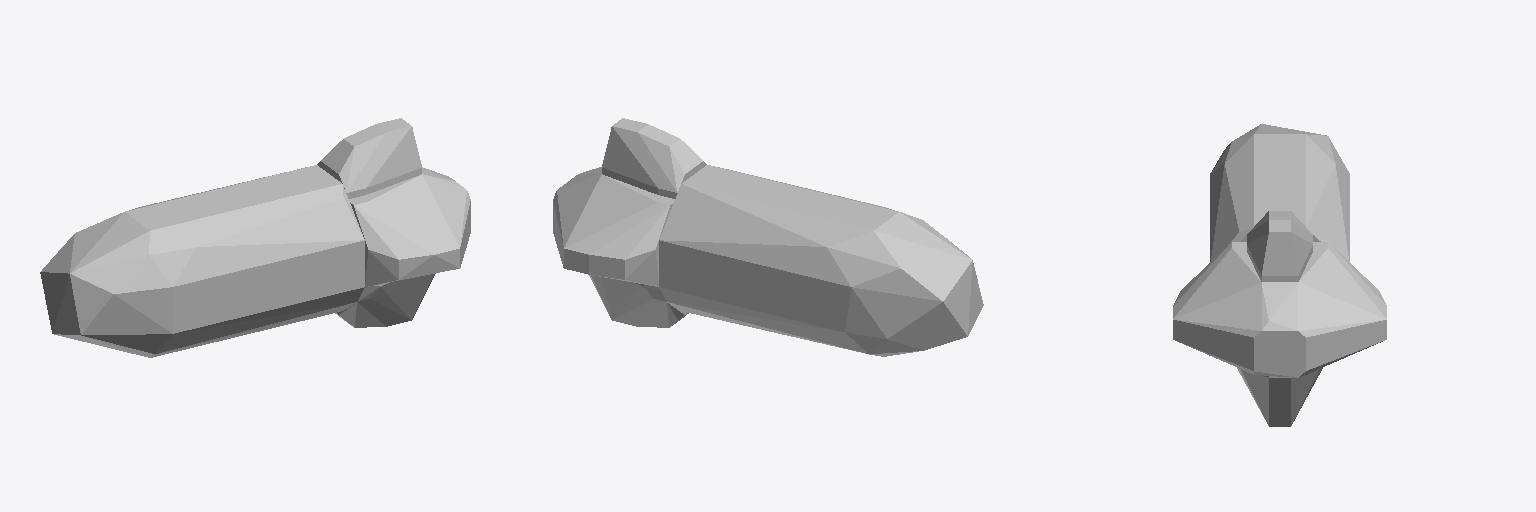
File: Missile_Convex_Hull.obj
The picture shows the model from 3 angles: view 1: azimuth 30°, elevation 25°; view 2: azimuth 150°, elevation 25°; view 3: azimuth 270°, elevation 25°; orthographic projection.
Parts seen in each view (by area): view 1: Rocket25_Cube.039_hull_1, Rocket25_Cube.039_hull_4, Rocket25_Cube.039_hull_3, Rocket25_Cube.039_hull_2; view 2: Rocket25_Cube.039_hull_1, Rocket25_Cube.039_hull_4, Rocket25_Cube.039_hull_3, Rocket25_Cube.039_hull_2; view 3: Rocket25_Cube.039_hull_4, Rocket25_Cube.039_hull_1, Rocket25_Cube.039_hull_3, Rocket25_Cube.039_hull_2.
Boxes of the visible parts, <box> form: Rocket25_Cube.039_hull_1: <box>40,165,364,357</box>; Rocket25_Cube.039_hull_4: <box>349,167,470,286</box>; Rocket25_Cube.039_hull_3: <box>317,118,421,198</box>; Rocket25_Cube.039_hull_2: <box>335,273,435,327</box>; Rocket25_Cube.039_hull_1: <box>659,165,983,356</box>; Rocket25_Cube.039_hull_4: <box>553,167,674,286</box>; Rocket25_Cube.039_hull_3: <box>602,118,706,198</box>; Rocket25_Cube.039_hull_2: <box>589,275,688,327</box>; Rocket25_Cube.039_hull_4: <box>1173,242,1386,377</box>; Rocket25_Cube.039_hull_1: <box>1210,124,1349,261</box>; Rocket25_Cube.039_hull_3: <box>1247,211,1312,281</box>; Rocket25_Cube.039_hull_2: <box>1237,368,1322,426</box>.
Size of the model in its own units: 15.13 by 6.96 by 6.97.